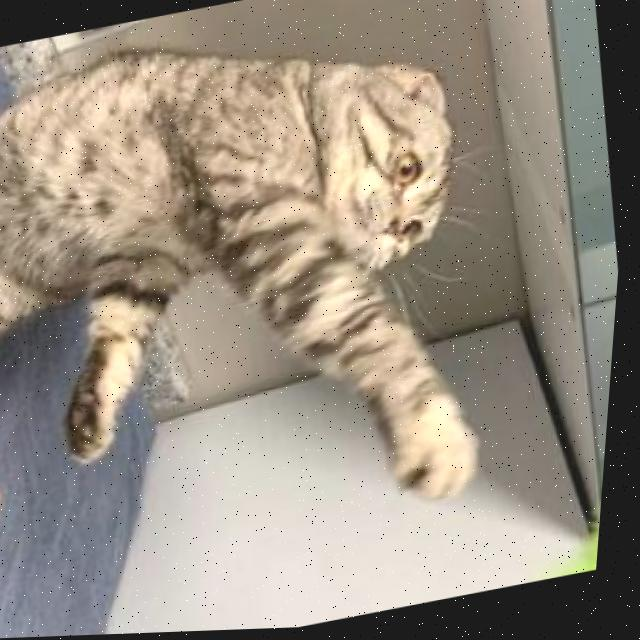Scottish Fold: (0, 0, 539, 590)
